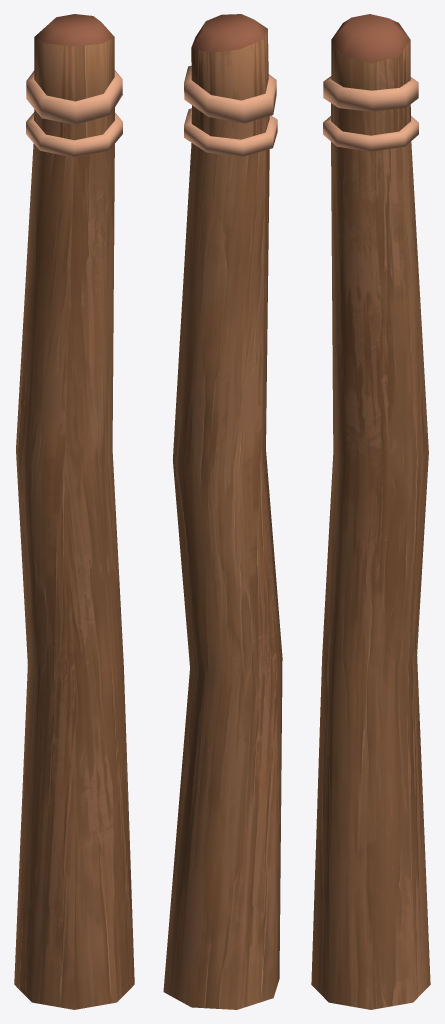
File: Pillar_2.fbx
The picture shows the model from 3 angles, left to right: view 1: azimuth 90°, elevation 25°; view 2: azimuth 150°, elevation 25°; view 3: azimuth 270°, elevation 25°; orthographic projection.
Visible parts, largest first — view 1: Pillar_2; view 2: Pillar_2; view 3: Pillar_2.
Boxes of the visible parts, x1=… form: Pillar_2: x1=14, y1=14, x2=134, y2=1009; Pillar_2: x1=163, y1=14, x2=282, y2=1009; Pillar_2: x1=311, y1=14, x2=430, y2=1009.
Bounding box in the file's own units: 0.2396 × 2.05 × 0.2318.
